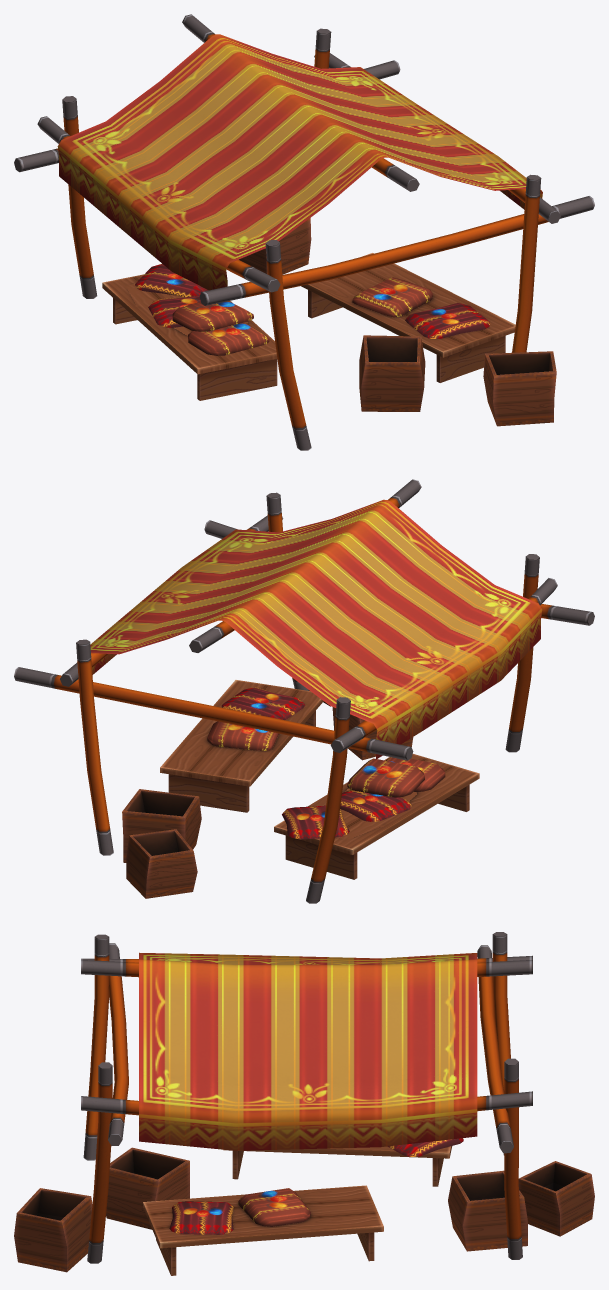
File: Market_01.FBX
The picture shows the model from 3 angles, top to bottom: view 1: azimuth 30°, elevation 25°; view 2: azimuth 150°, elevation 25°; view 3: azimuth 270°, elevation 25°; orthographic projection. The views are drawn at different scales.
Visible parts, largest first — view 1: Market_01; view 2: Market_01; view 3: Market_01.
Boxes of the visible parts, <box> form: Market_01: <box>14,14,594,450</box>; Market_01: <box>14,479,594,903</box>; Market_01: <box>14,932,594,1275</box>.
Size of the model in its own units: 1.53 by 0.9269 by 1.96.
